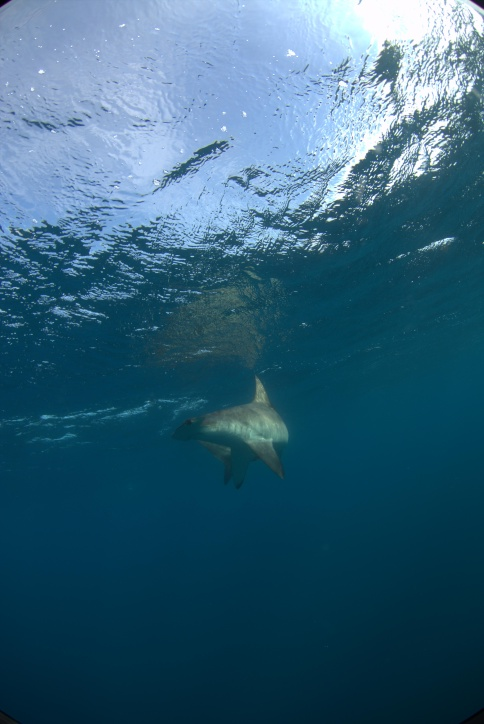Hammer: (169, 354, 325, 520)
